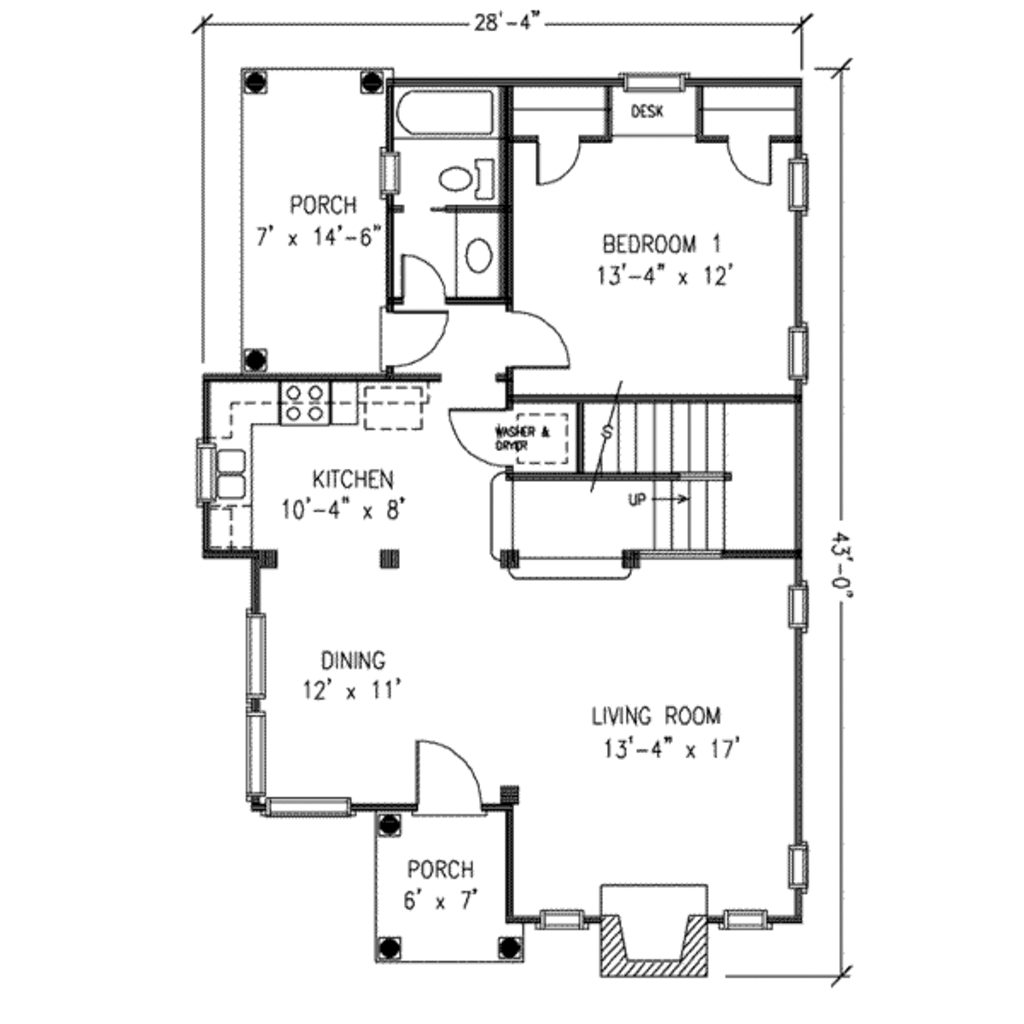door: (409, 728, 489, 830), (497, 298, 578, 379), (367, 302, 455, 372), (448, 400, 529, 466), (722, 133, 785, 196), (392, 253, 449, 317), (530, 131, 591, 187)
large_sink: (428, 139, 501, 203)
small_sink: (453, 201, 507, 300)
stairs: (514, 403, 751, 578)
tub: (393, 80, 495, 135)
twin_sink: (203, 440, 258, 507)
window: (241, 603, 285, 704), (246, 793, 358, 820), (245, 705, 275, 803), (783, 577, 822, 638), (625, 68, 694, 102), (783, 318, 817, 382), (784, 836, 816, 902), (524, 903, 590, 934), (787, 148, 815, 221), (719, 904, 774, 932), (377, 145, 405, 197)
